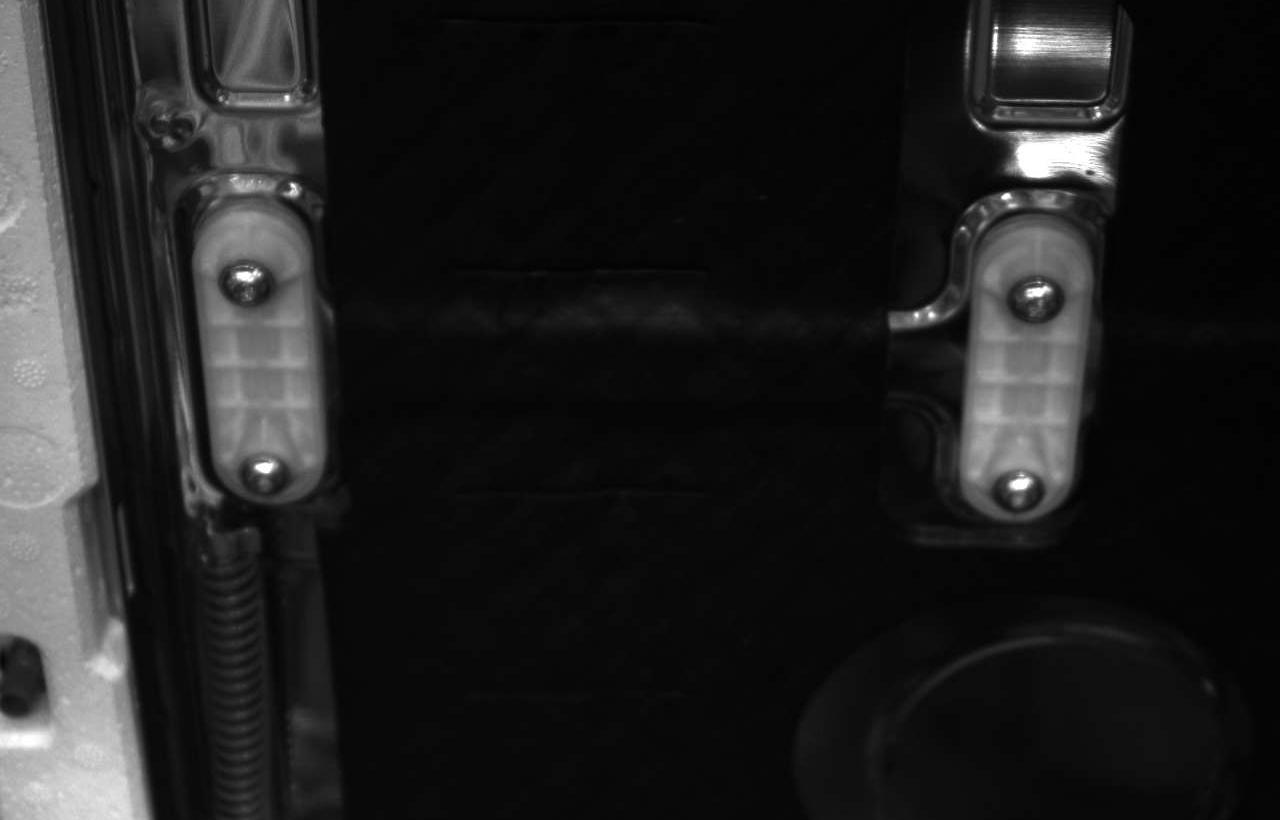vida-ok: (206, 249, 277, 317), (1003, 268, 1070, 335), (986, 452, 1051, 521), (236, 444, 301, 502)
